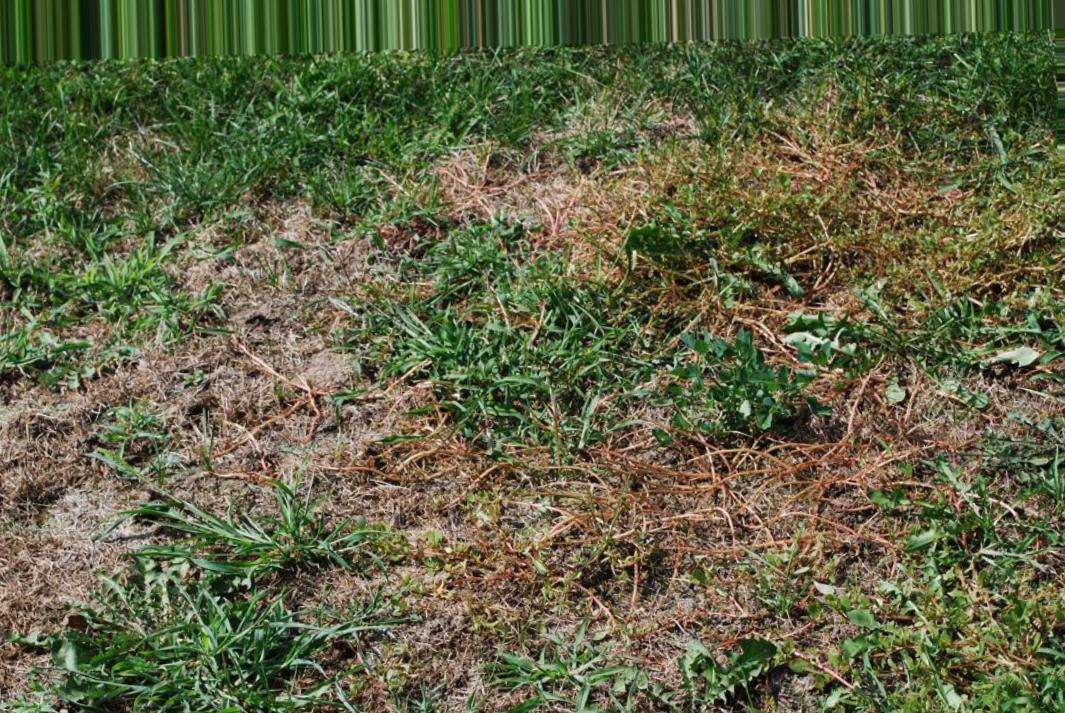patch: (203, 268, 360, 394), (19, 427, 118, 603)
